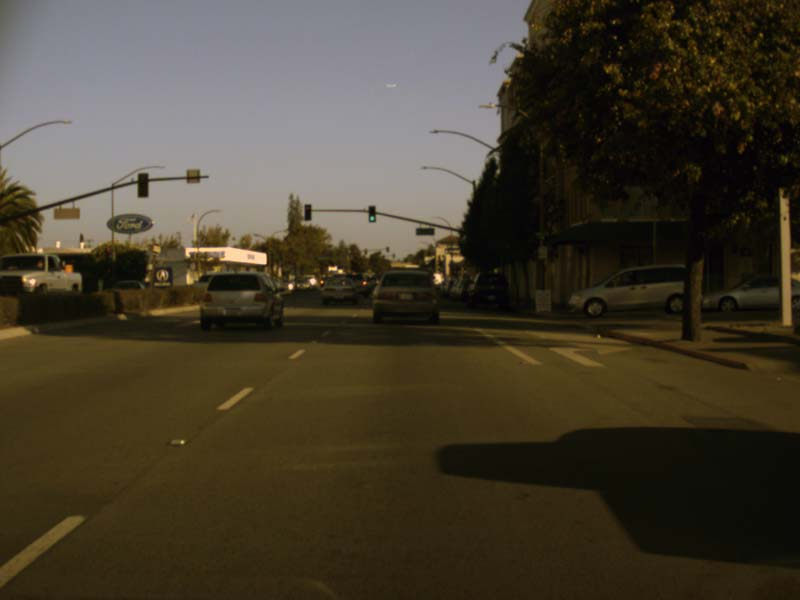Green: (368, 207, 375, 221)
Red: (305, 205, 310, 219)
